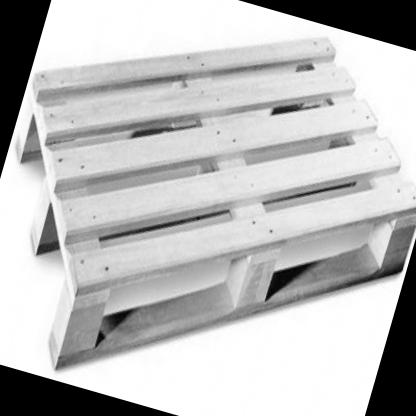BoxFace: (15, 35, 416, 374)
